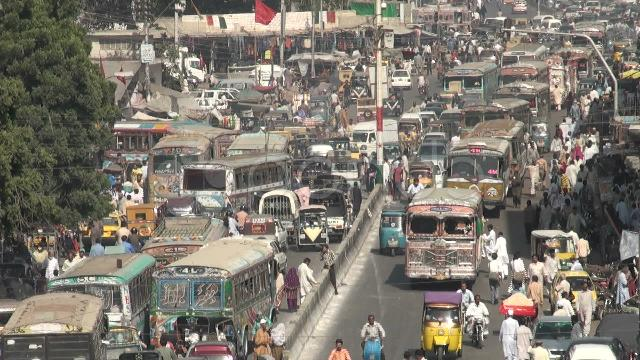Bike: (360, 335, 384, 360)
Bus: (148, 240, 275, 341), (49, 249, 156, 334), (402, 195, 484, 287), (146, 130, 210, 204), (178, 154, 256, 213), (446, 137, 509, 205)
Person: (575, 280, 595, 338), (497, 308, 519, 360), (485, 252, 505, 302), (494, 228, 510, 281), (360, 311, 386, 340), (514, 318, 530, 360), (466, 295, 490, 321), (327, 337, 354, 360)
Rickshaw: (416, 288, 465, 360), (295, 204, 330, 250), (379, 205, 408, 258)
Suzuki: (257, 188, 298, 237)
